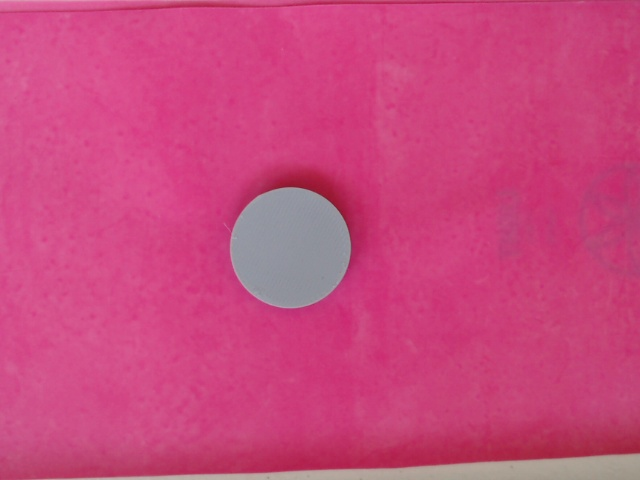NonDefective: (228, 185, 354, 313)
